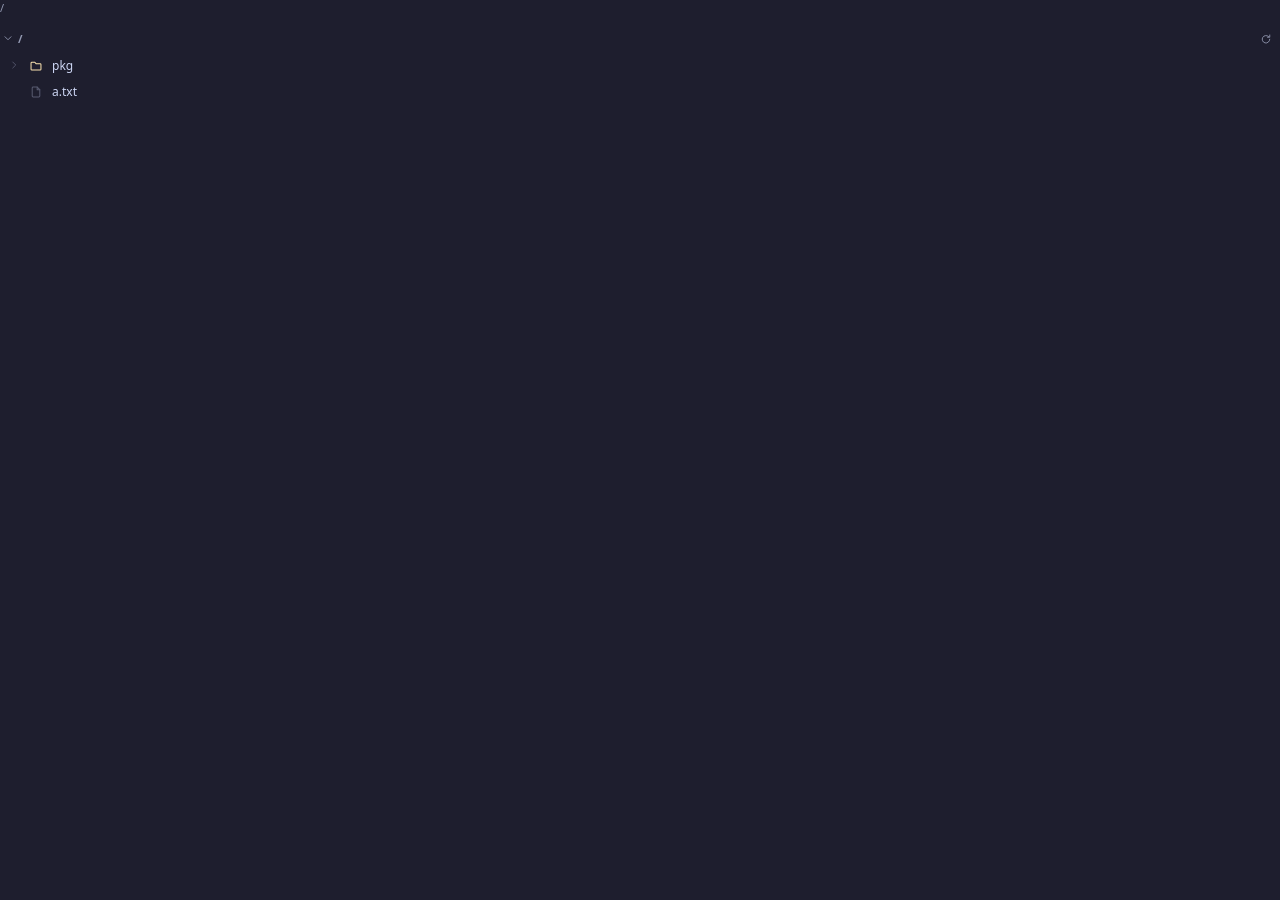
Test case: Explorer roots › draws the caret and fallback glyph of a row as icons: a folder, a file, a state
Check: the button with test id "ft-row-/a.txt" is shown, box [0,79,1279,105]
What coordinates should you click on to do the following:
click the button with test id "ft-row-/pkg"
I would click on:
 (14, 65)
Its box is [0,53,1279,79].
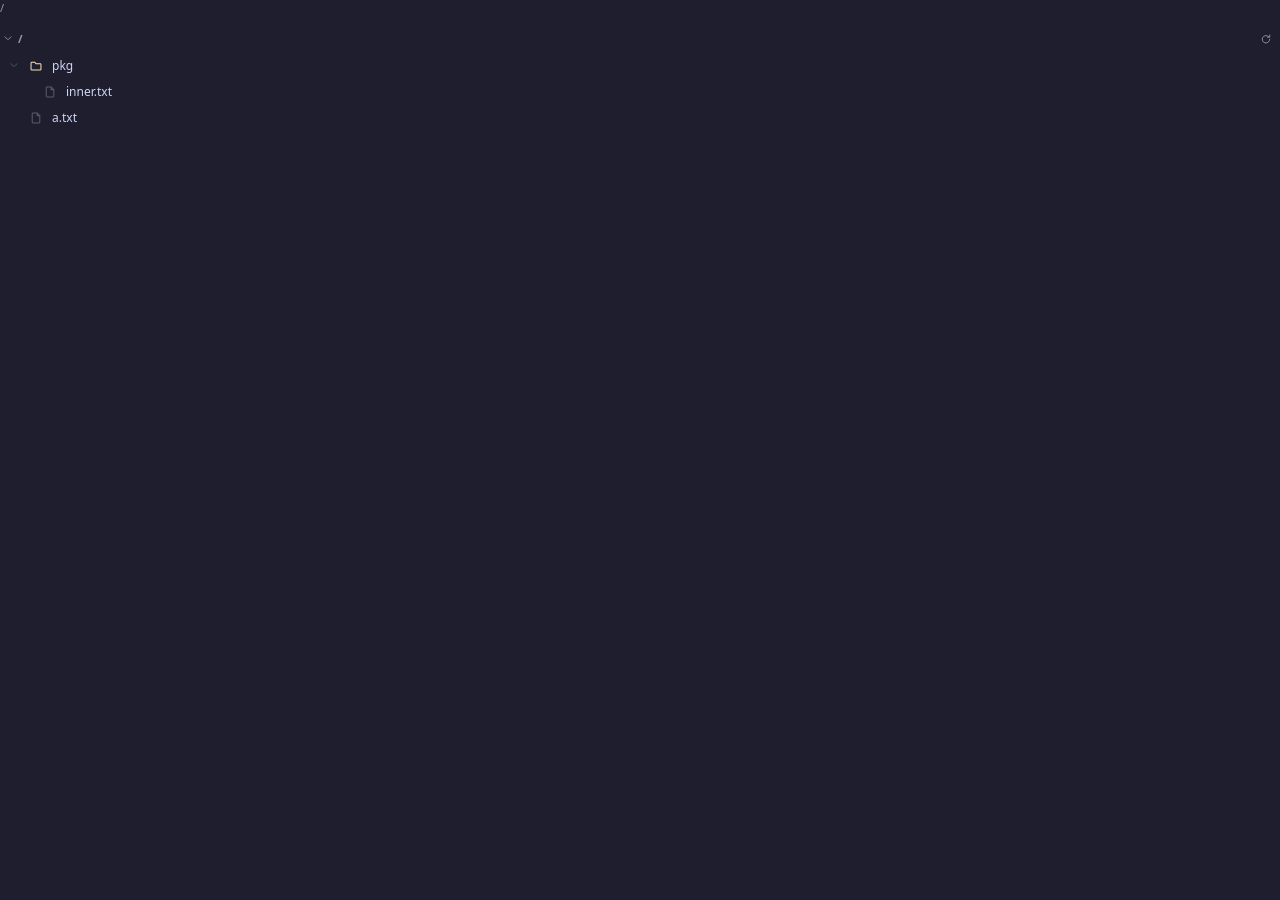
Check: the button with test id "ft-row-/pkg/inner.txt" is shown, box [0,79,1279,105]
